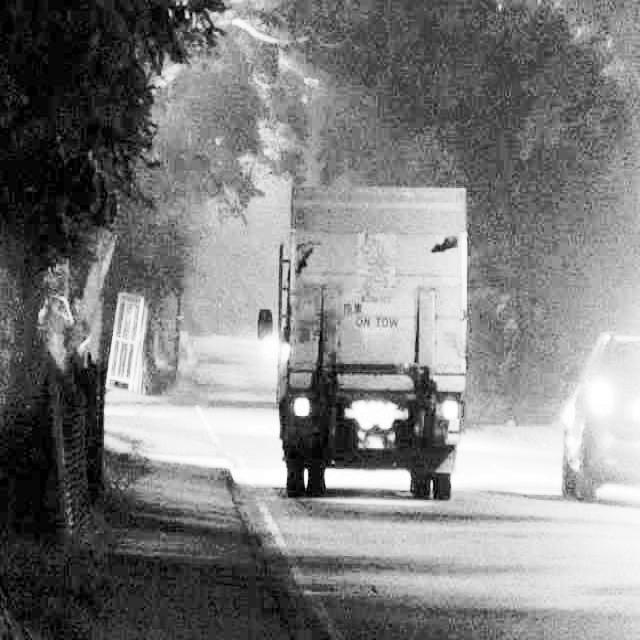Truck: (257, 181, 469, 500)
